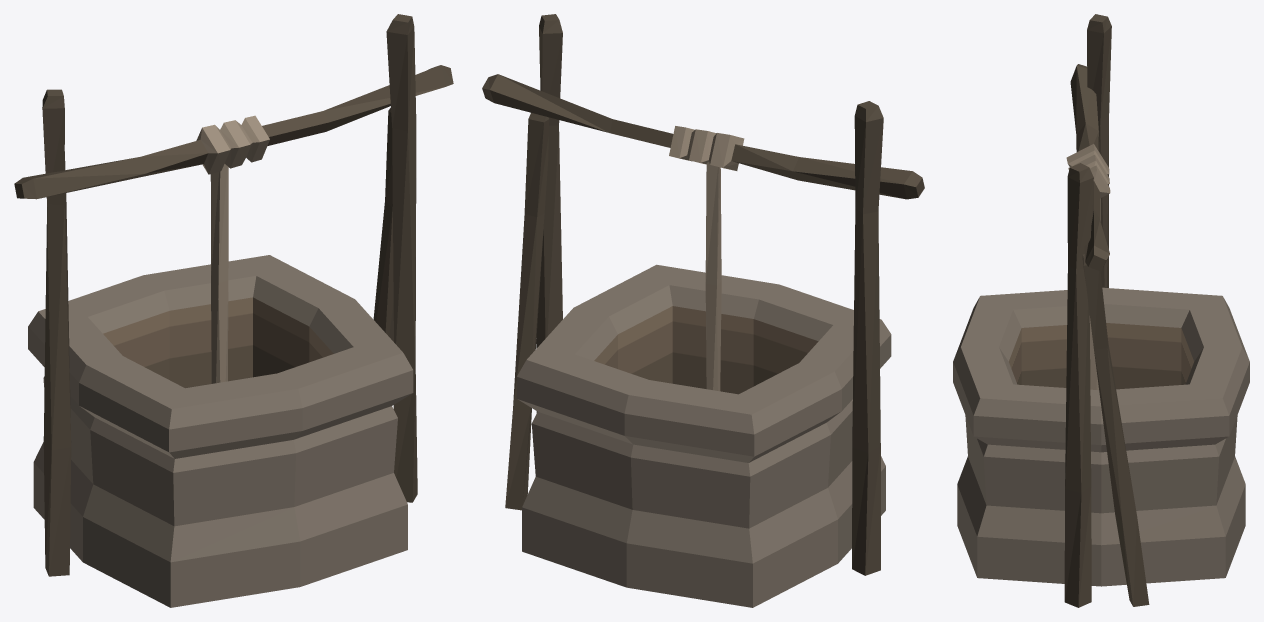
File: SM_Prop_Well_01.glb
3 renders of one model, left to right at view 1: azimuth 30°, elevation 25°; view 2: azimuth 150°, elevation 25°; view 3: azimuth 270°, elevation 25°, orthographic. The views are drawn at different scales.
Visible parts, largest first — view 1: SM_Prop_Well_01_part00; view 2: SM_Prop_Well_01_part00; view 3: SM_Prop_Well_01_part00.
Boxes of the visible parts, bbox=[...] form: SM_Prop_Well_01_part00: bbox=[14, 14, 453, 607]; SM_Prop_Well_01_part00: bbox=[482, 14, 924, 607]; SM_Prop_Well_01_part00: bbox=[953, 14, 1249, 607].
Bounding box in the file's own units: 2.05 × 2.14 × 1.32.
Materials: 1 (1 with a texture image).
